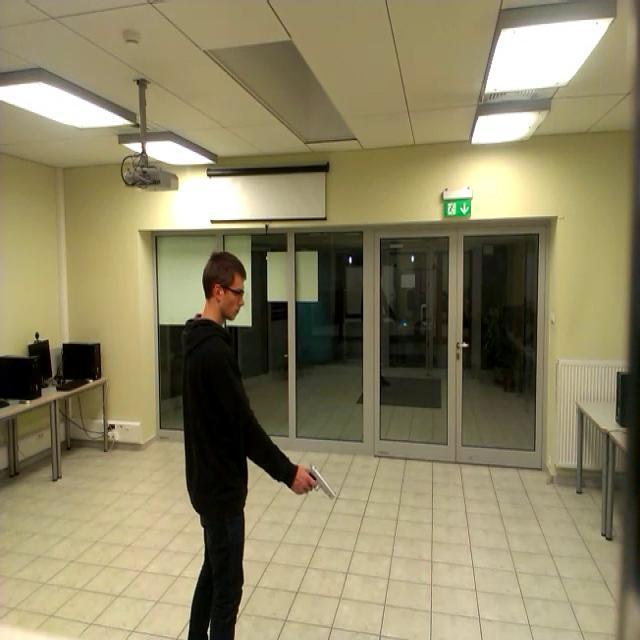Gun: (307, 458, 341, 510)
